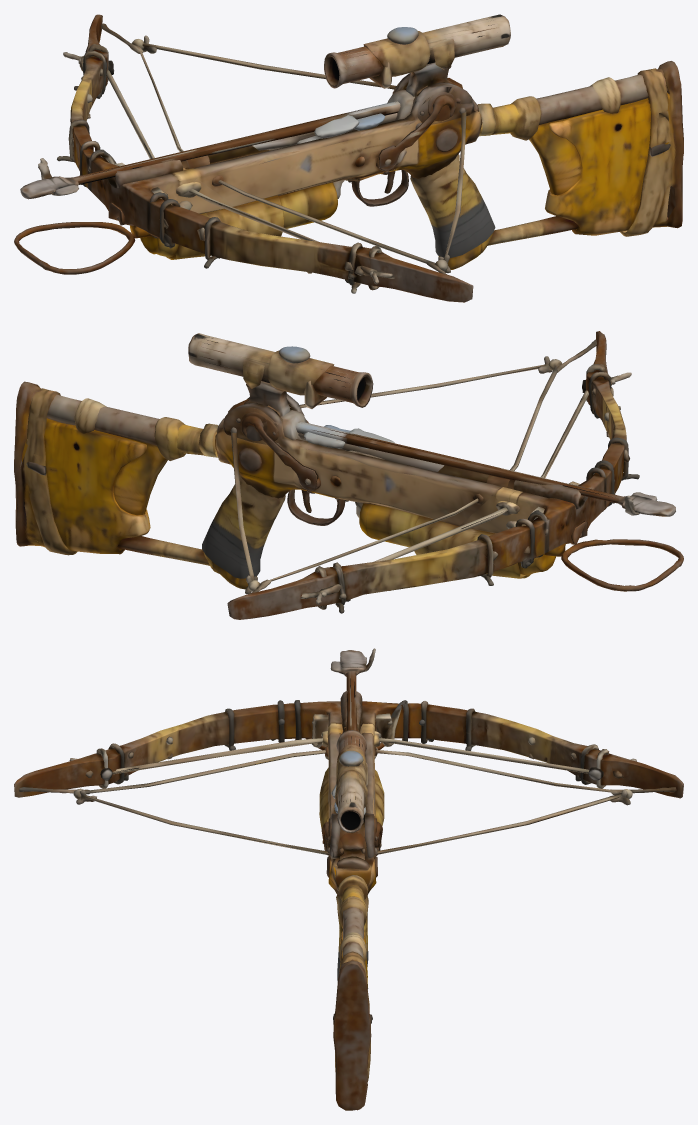
File: hunting_crossbow.glb
3 views of the same model, one above another, from view 1: azimuth 30°, elevation 25°; view 2: azimuth 150°, elevation 25°; view 3: azimuth 270°, elevation 25° (orthographic). The views are drawn at different scales.
Visible parts, largest first — view 1: geometry_0; view 2: geometry_0; view 3: geometry_0.
Part boxes in pixels (x1,y1,x2,y2): geometry_0: (14, 14, 683, 302); geometry_0: (14, 331, 683, 619); geometry_0: (14, 648, 683, 1110).
Bounding box in the file's own units: 1 × 0.3853 × 0.9877.
1 material, 1 textured.
